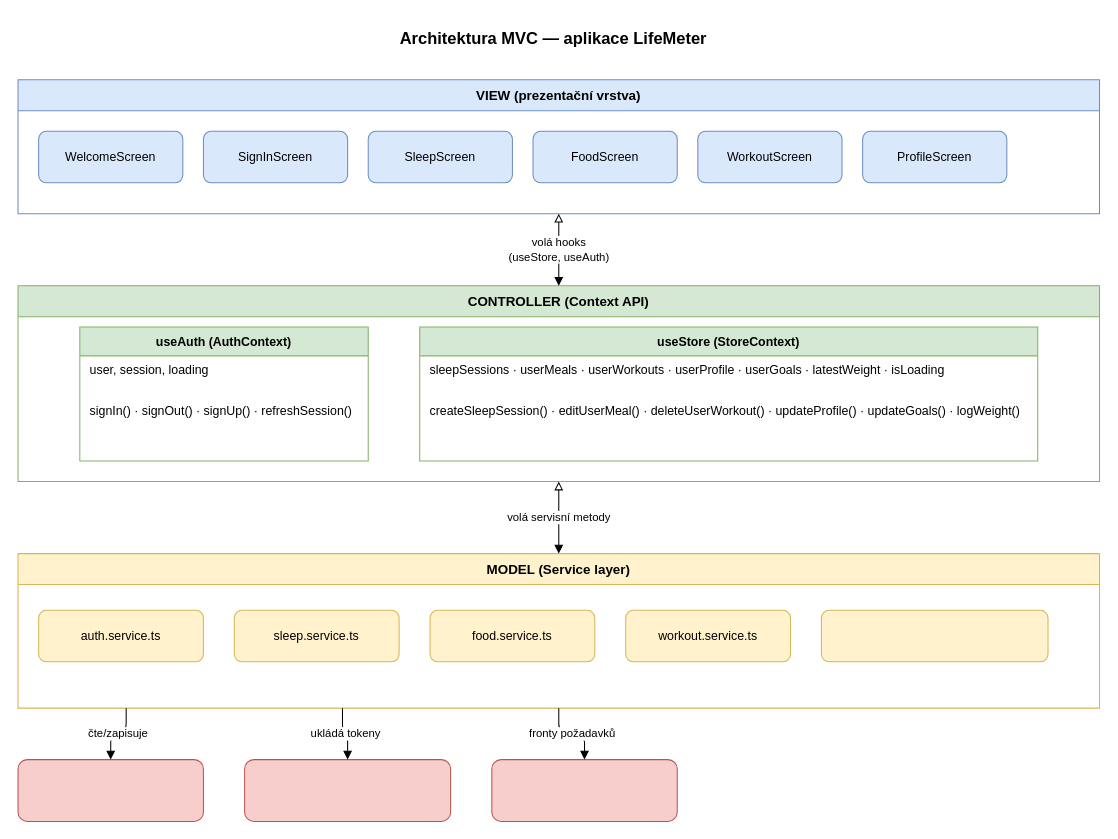
Some shapes in this 1118 by 839 pixel diagram are drawn without their labels. Each missing label, with the centre of its shape:
expo-secure-store (Android Keystore): point (347, 790)
MMKV (offline cache): point (110, 790)
Offline fronta (retry queue): point (584, 790)
user.profile.service.ts: point (934, 635)
